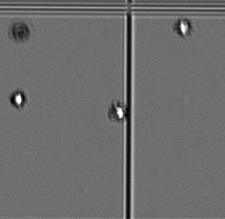Dead Cell: (11, 22, 31, 42)
Living Cell: (7, 87, 30, 110), (107, 99, 129, 122), (173, 17, 195, 37)
